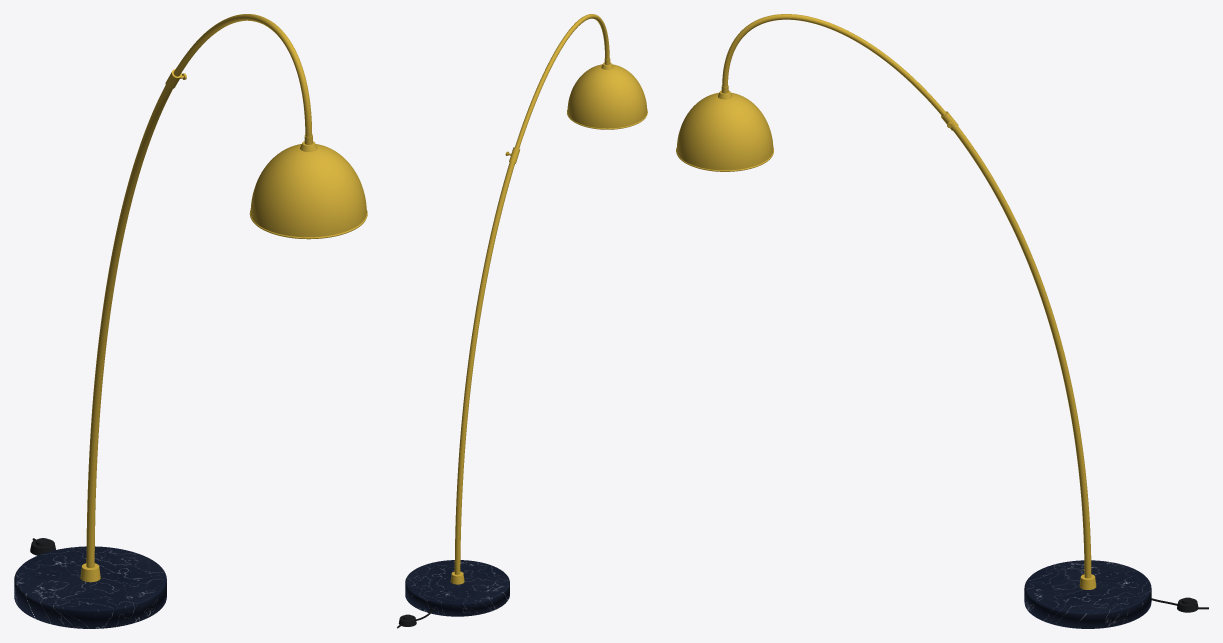
Rendered from Office_Lounge_Arc_Floor_Lamp.glb.
3 renders of one model, left to right at view 1: azimuth 30°, elevation 25°; view 2: azimuth 150°, elevation 25°; view 3: azimuth 270°, elevation 25°, orthographic. The views are drawn at different scales.
Parts seen in each view (by area): view 1: Base_Nero_Marquina, Dome_Outer_Brass, Arch_Lower_Tube, Arch_Upper_Tube; view 2: Base_Nero_Marquina, Dome_Outer_Brass, Arch_Lower_Tube, Arch_Upper_Tube; view 3: Base_Nero_Marquina, Dome_Outer_Brass, Arch_Lower_Tube, Arch_Upper_Tube.
Part boxes in pixels (x1,y1,x2,y2): Base_Nero_Marquina: [14, 546, 166, 628]; Dome_Outer_Brass: [250, 144, 366, 237]; Arch_Lower_Tube: [86, 85, 172, 567]; Arch_Upper_Tube: [173, 14, 312, 136]; Base_Nero_Marquina: [405, 560, 509, 616]; Dome_Outer_Brass: [567, 64, 647, 128]; Arch_Lower_Tube: [454, 162, 514, 574]; Arch_Upper_Tube: [515, 14, 609, 148]; Base_Nero_Marquina: [1024, 560, 1151, 628]; Dome_Outer_Brass: [676, 92, 773, 170]; Arch_Lower_Tube: [953, 126, 1091, 578]; Arch_Upper_Tube: [722, 14, 946, 116].
Bounding box in the file's own units: 0.42 × 2.15 × 1.76.
Materials: 8 (1 with a texture image).
